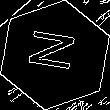N_E: (25, 31, 85, 79)
